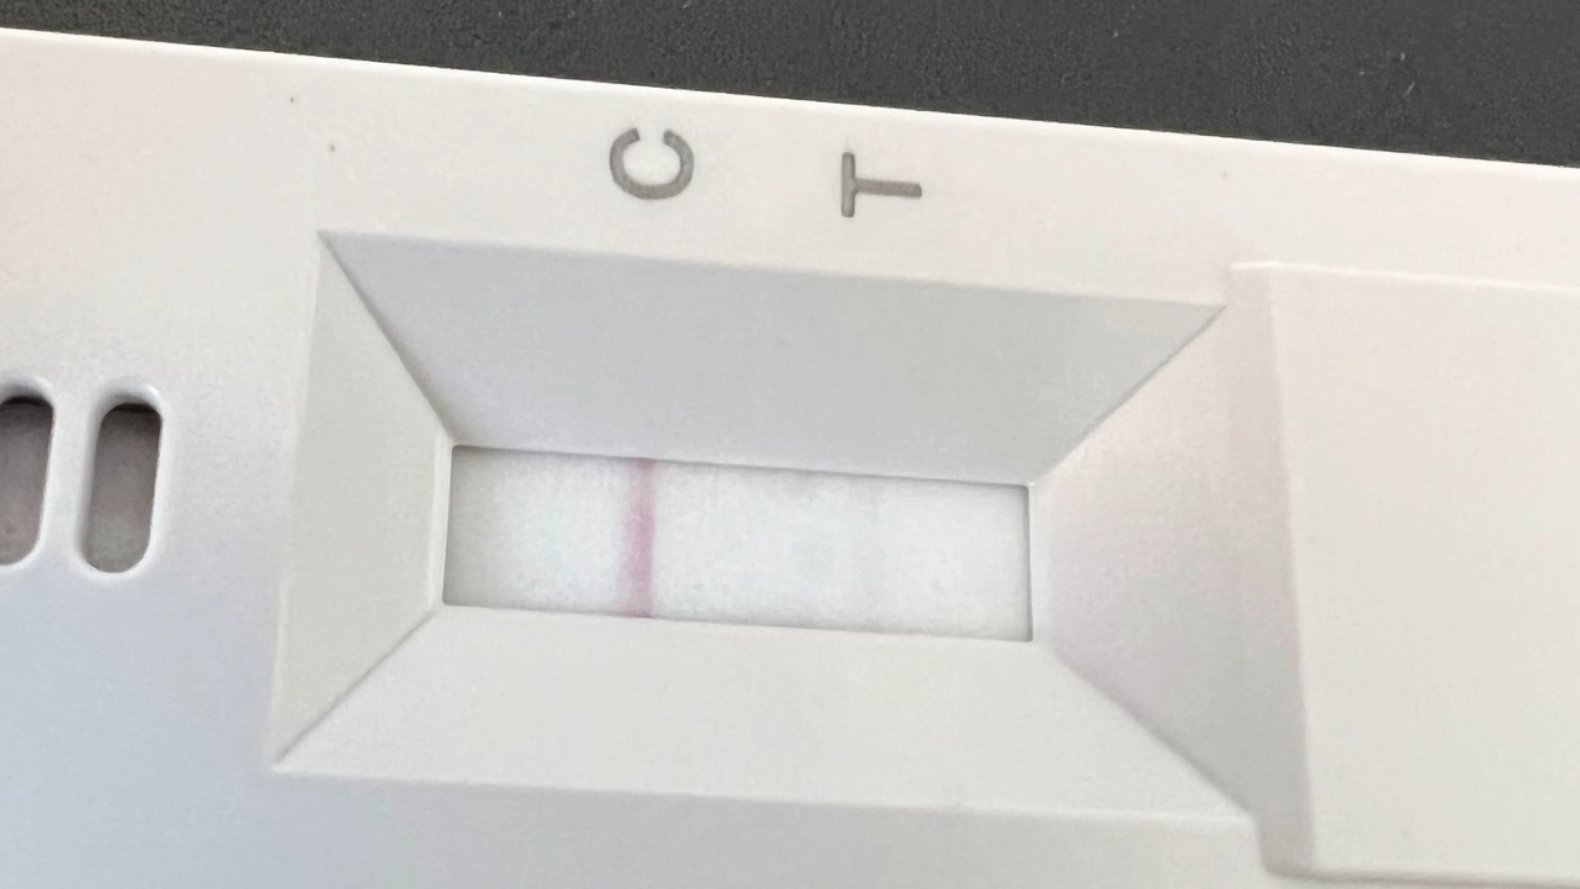positive: (425, 434, 1090, 680)
